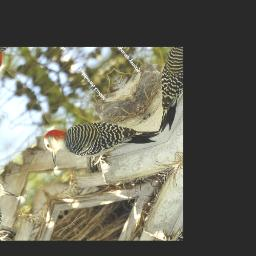Woodpecker: (34, 76, 163, 202)
